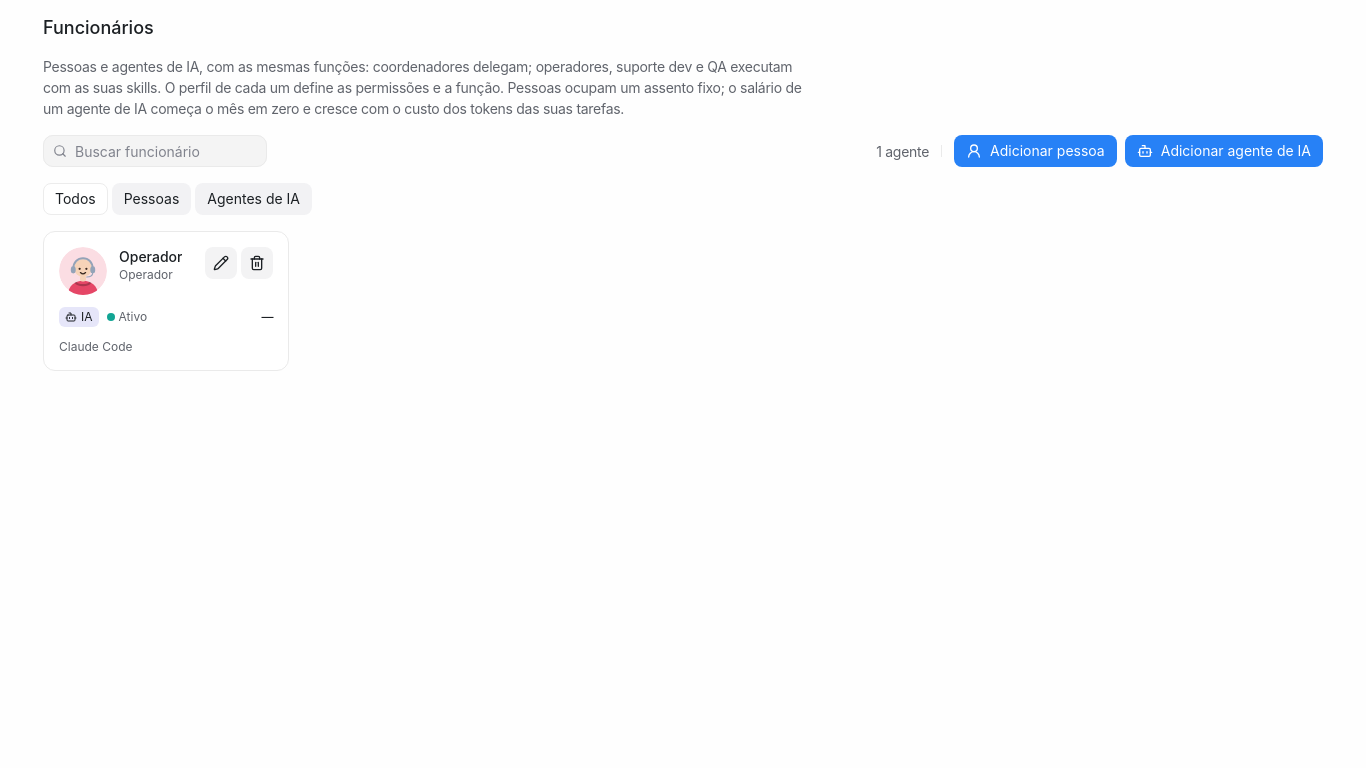
Test: agent roster › adds a write-only credential to an executing AI agent
Step 1. Click the button named "Editar Operador" → {"x": 221, "y": 263}, box [205,247,237,279]
(page scrolled)
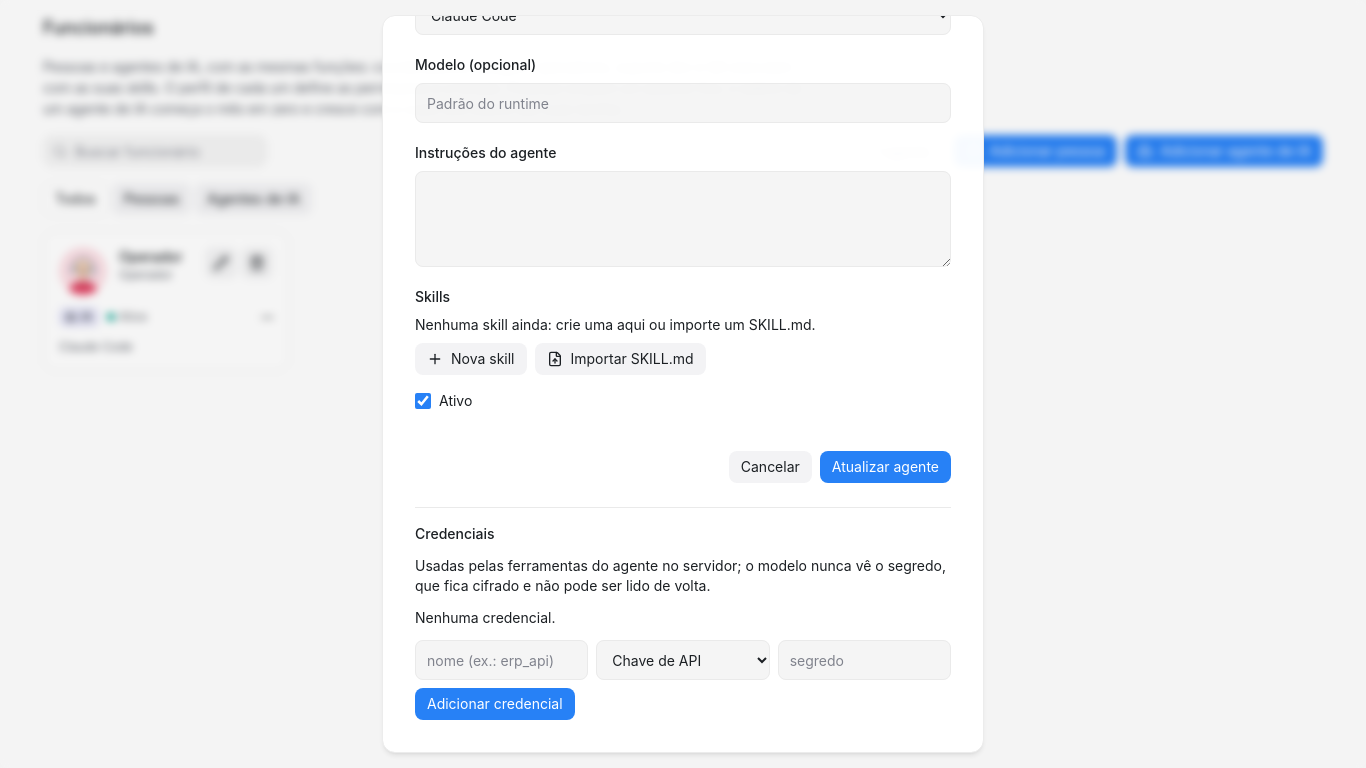
Step 2. Type "erp_api" into the field named "Nome da credencial" → {"x": 502, "y": 660}, box [415,640,588,680]
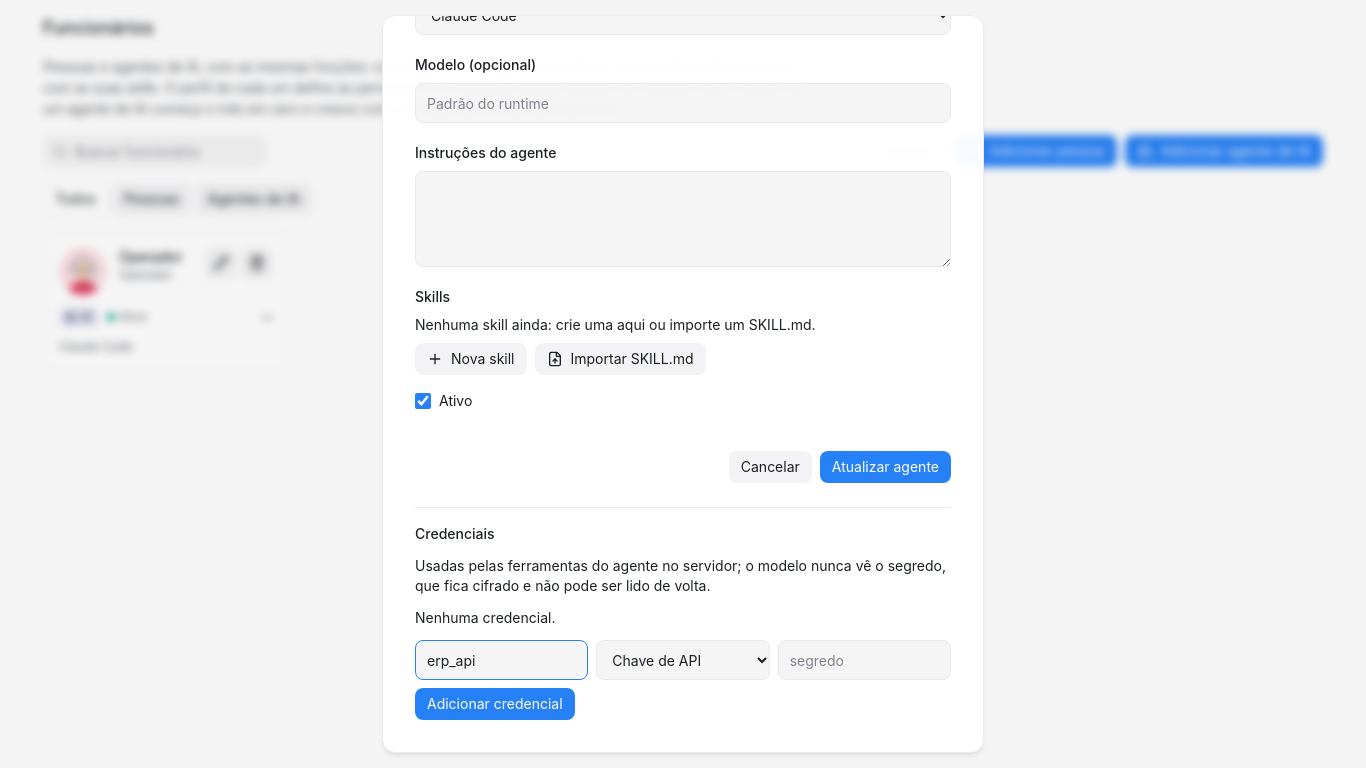
Step 3. Type "sk-123" into the password field labelled "segredo" → {"x": 864, "y": 660}, box [778,640,951,680]
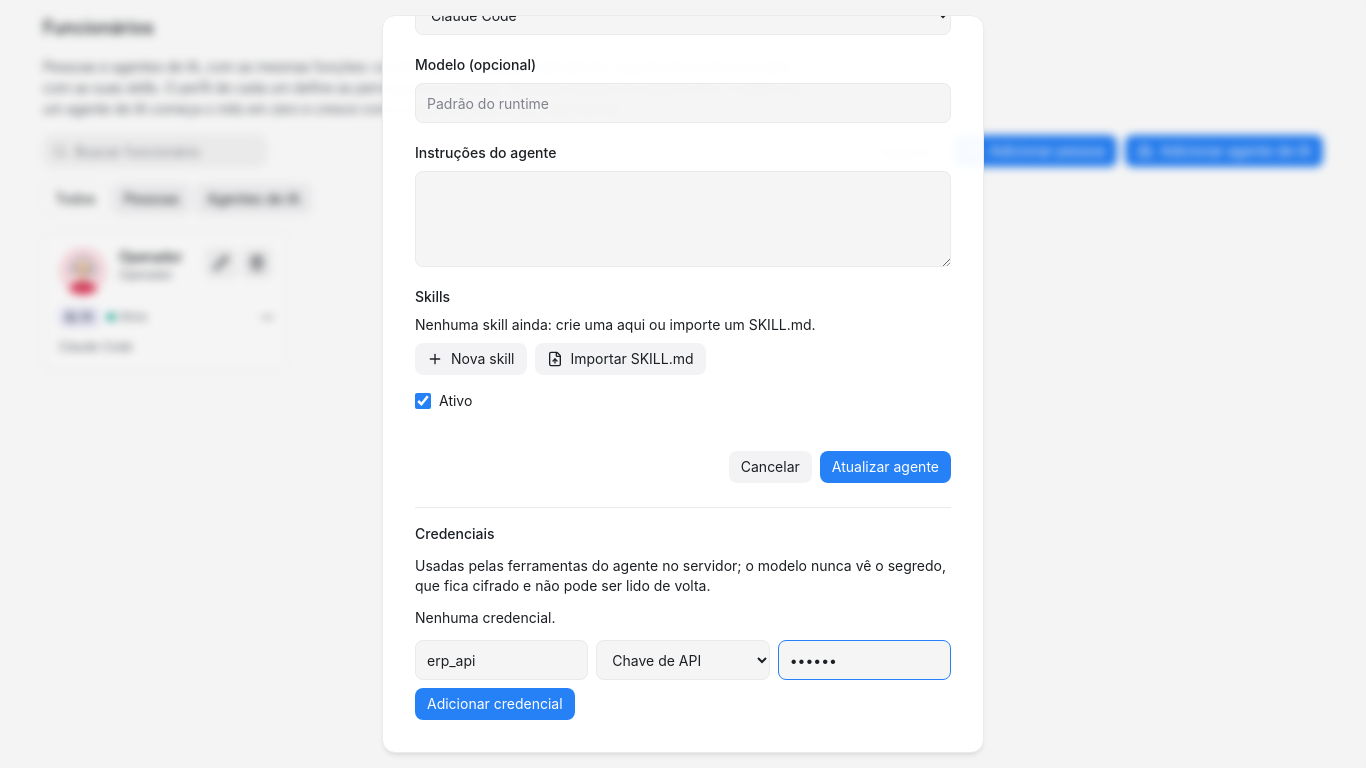
Step 4. Click the button "Adicionar credencial" → {"x": 495, "y": 704}, box [415,688,575,720]
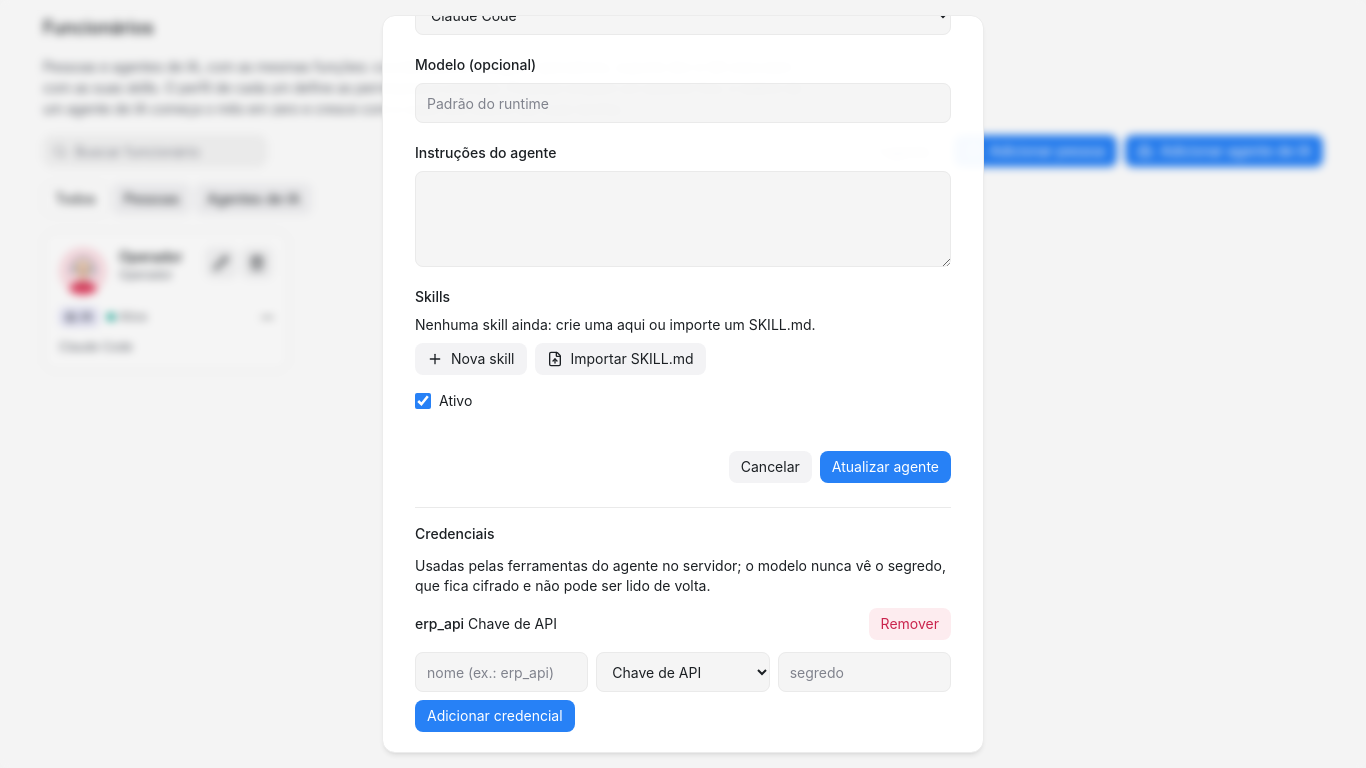
Expected: the text "erp_api" is shown, [415,615,464,632]
Expected: the password field labelled "segredo" is empty, [778,652,951,692]
